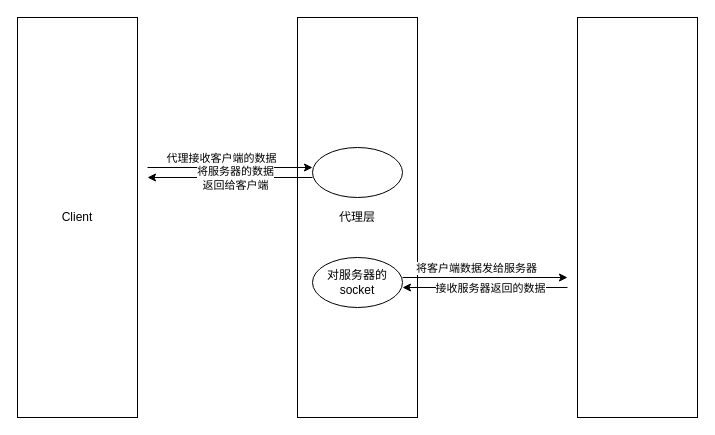
This 715x435 diagram has some shape labels left out. The shapes that lost their labels are listed below. From the top down, each one's box as (x1, y1, x2, y2) in pixels, then its label:
(312, 146, 402, 198): 对客户端的socket
(576, 16, 698, 418): 真实服务器
